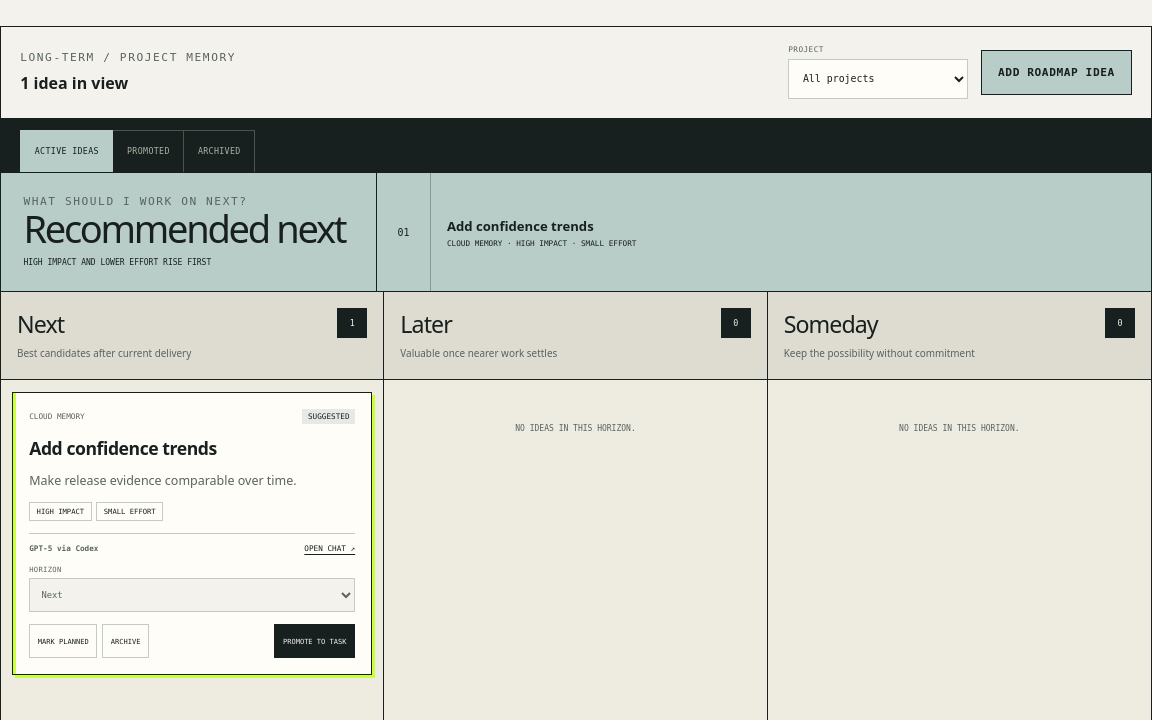
RoadmapWorkspace › requires a second explicit action before promoting exactly one Inbox task
Click the button with aria-label "Promote Add confidence trends to a task".
click(315, 641)  # box [274,624,355,658]
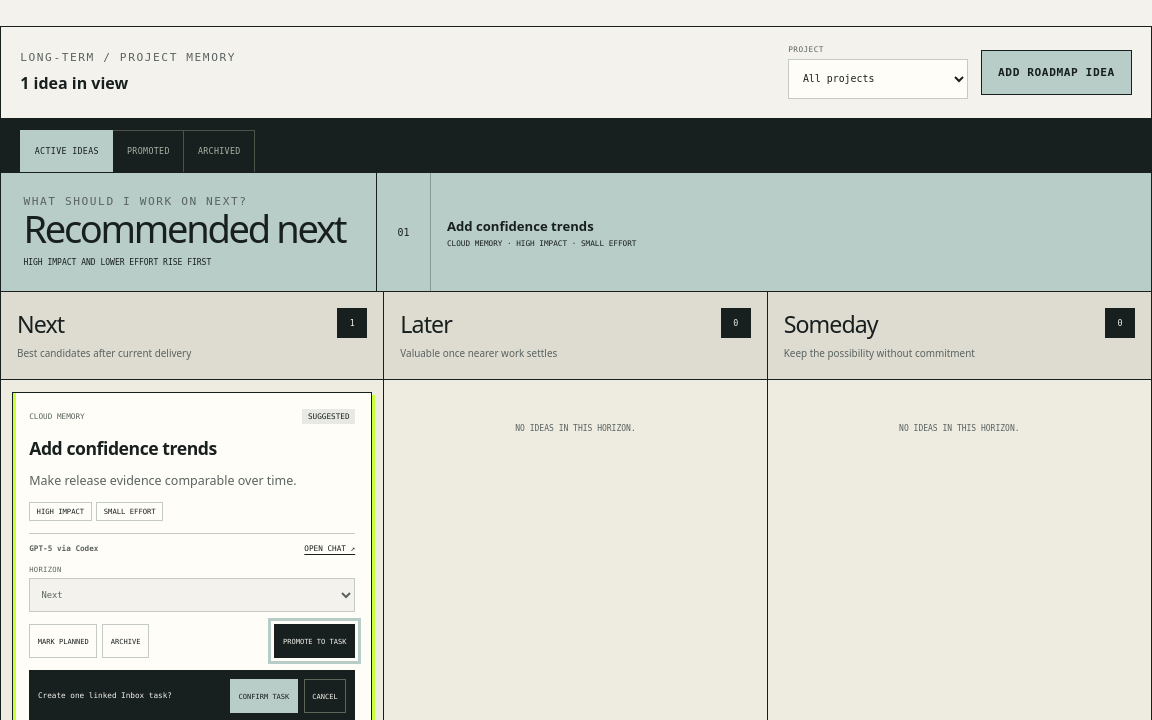
Click the button with aria-label "Confirm Inbox task for Add confidence trends".
click(264, 696)  # box [230,679,298,713]
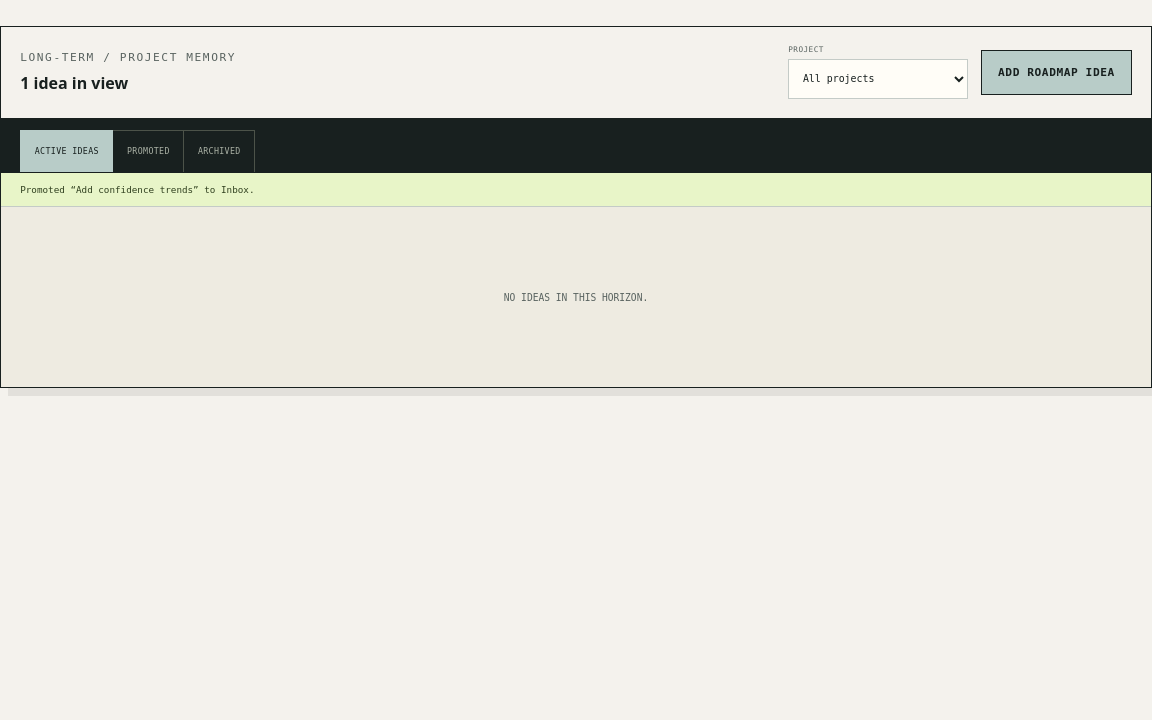
Now the message shows "Promoted", box [20,184,254,195]
